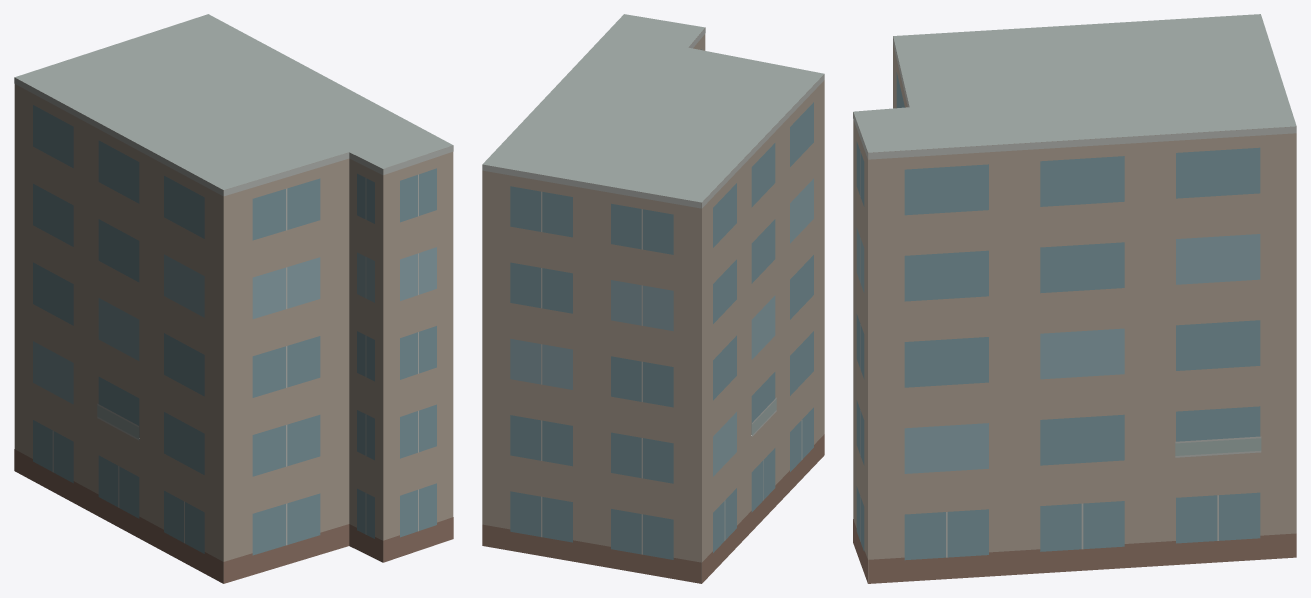
The model's file is survey-upis-32825050.glb.
The picture shows the model from 3 angles, left to right: view 1: azimuth 30°, elevation 25°; view 2: azimuth 150°, elevation 25°; view 3: azimuth 270°, elevation 25°; orthographic projection. The views are drawn at different scales.
Visible parts, largest first — view 1: survey-upis-32825050.tmp; view 2: survey-upis-32825050.tmp; view 3: survey-upis-32825050.tmp.
Boxes of the visible parts, <box> form: survey-upis-32825050.tmp: <box>14,14,453,583</box>; survey-upis-32825050.tmp: <box>482,14,824,583</box>; survey-upis-32825050.tmp: <box>853,14,1296,583</box>.
Size of the model in its own units: 10.53 by 15.25 by 14.23.
